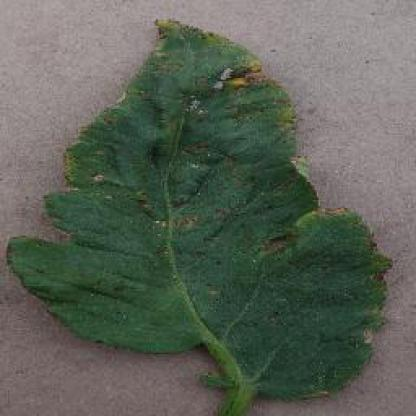bad leaf: (31, 14, 386, 411)
